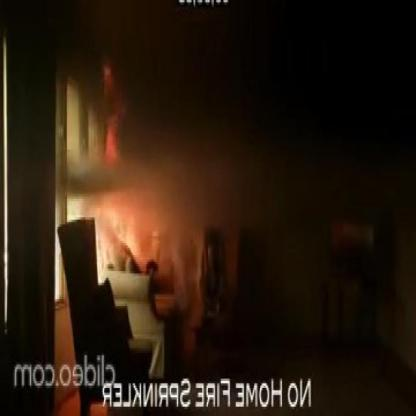Fire: (105, 203, 138, 250), (105, 121, 117, 166)
